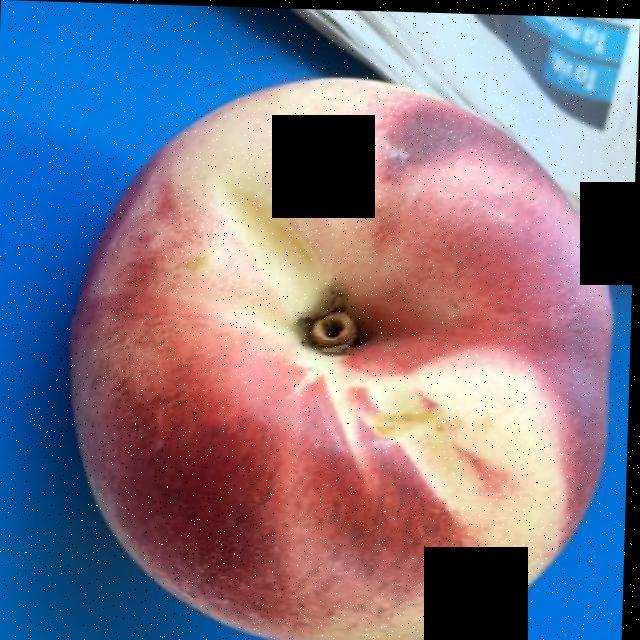peach: (64, 76, 604, 623)
